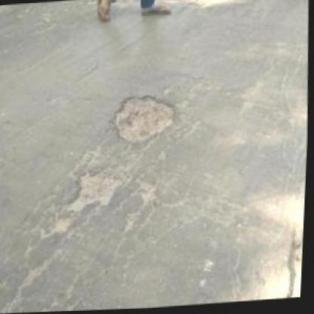Hueco: (110, 92, 178, 146), (62, 169, 124, 213)
